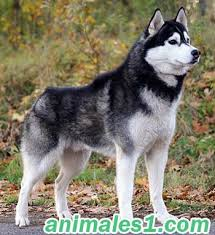husky: (93, 6, 201, 158)
